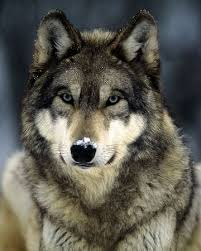Lobo: (10, 7, 181, 180)
